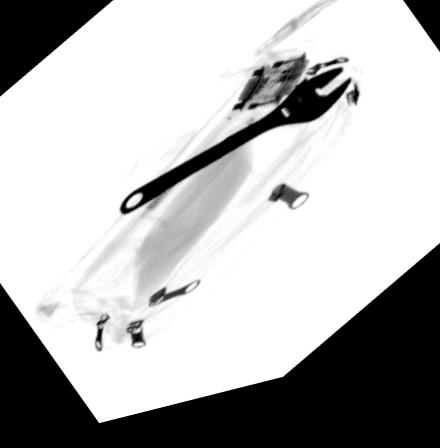Wrench: (115, 82, 351, 223)
